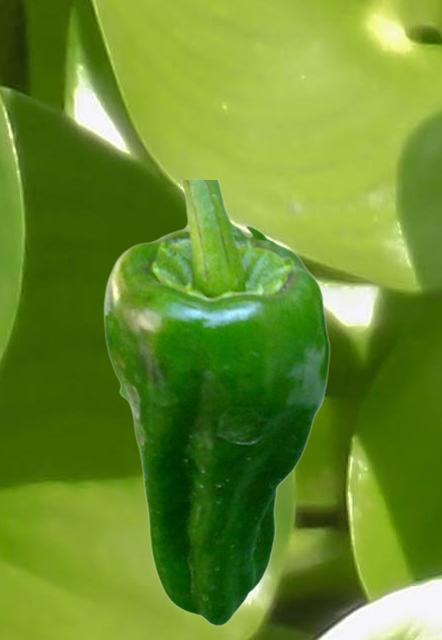bell_pepper: (102, 180, 330, 626)
